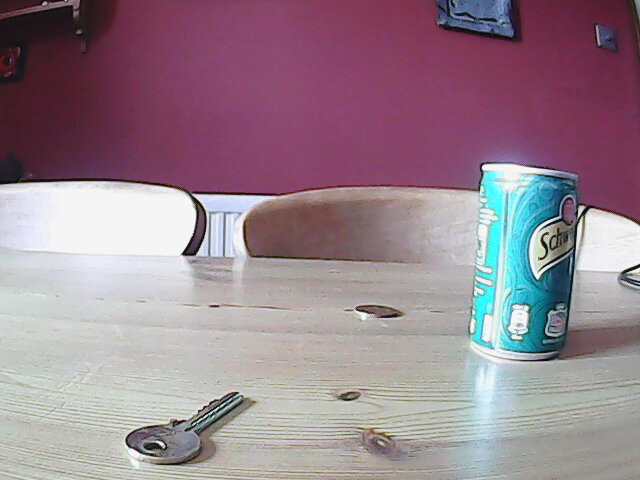Can: (465, 156, 584, 363)
Coin: (352, 301, 399, 321)
Key: (122, 390, 247, 464)
